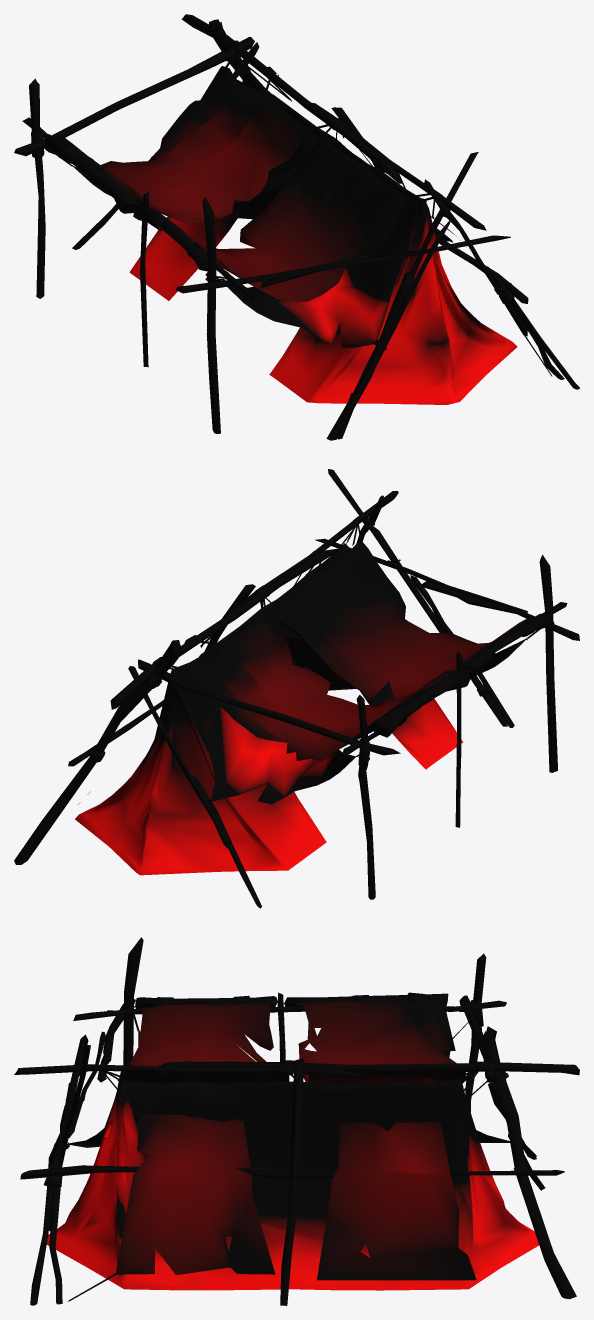
Rendered from tent_wooden_tribals_generic_village_d.gltf.
The picture shows the model from 3 angles, top to bottom: view 1: azimuth 30°, elevation 25°; view 2: azimuth 150°, elevation 25°; view 3: azimuth 270°, elevation 25°; orthographic projection. The views are drawn at different scales.
Visible parts, largest first — view 1: tent_wooden_tribals_generic_village_d; view 2: tent_wooden_tribals_generic_village_d; view 3: tent_wooden_tribals_generic_village_d.
Boxes of the visible parts, x1,y1,x2,y2 form: tent_wooden_tribals_generic_village_d: [14, 14, 579, 440]; tent_wooden_tribals_generic_village_d: [14, 469, 579, 908]; tent_wooden_tribals_generic_village_d: [14, 937, 579, 1305].
Bounding box in the file's own units: 7.41 × 4.65 × 10.62.
